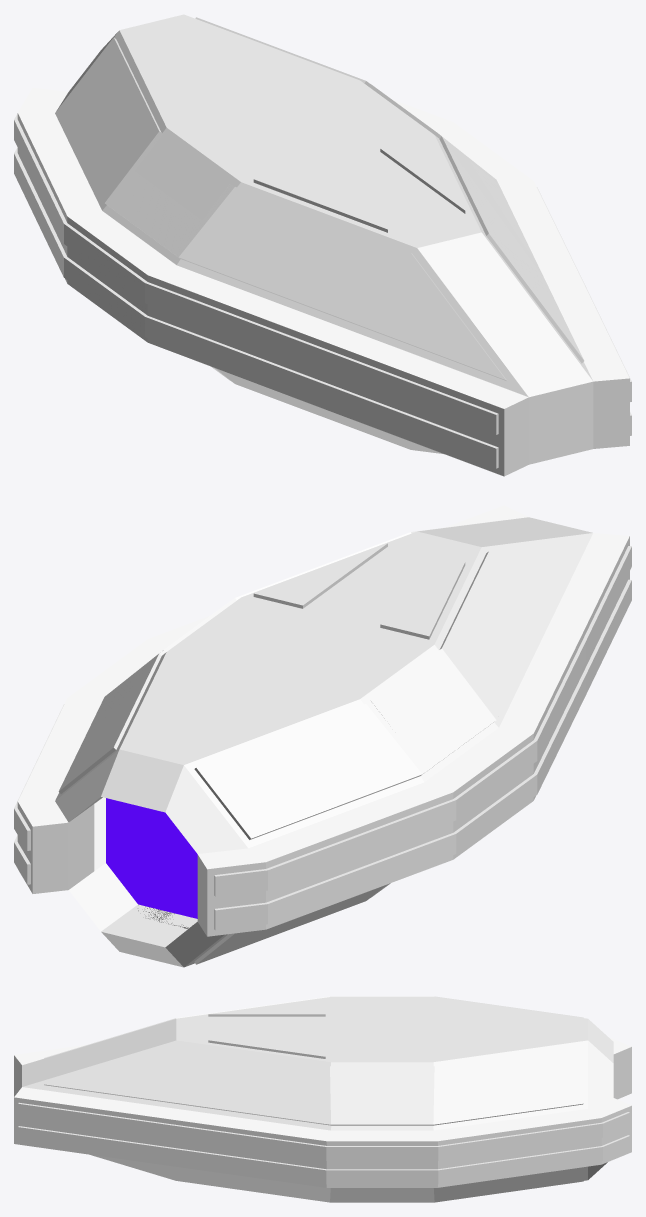
The model's file is 1-Ruby.glb.
The picture shows the model from 3 angles, top to bottom: view 1: azimuth 30°, elevation 25°; view 2: azimuth 150°, elevation 25°; view 3: azimuth 270°, elevation 25°; orthographic projection. The views are drawn at different scales.
Parts seen in each view (by area): view 1: Core.007, Core.006, Core.008; view 2: Core.007, Core.006, Core.008; view 3: Core.007, Core.006, Core.008.
Boxes of the visible parts, x1=… form: Core.007: x1=14, y1=14, x2=631, y2=476; Core.006: x1=58, y1=17, x2=583, y2=453; Core.008: x1=63, y1=38, x2=583, y2=381; Core.007: x1=14, y1=505, x2=631, y2=967; Core.006: x1=58, y1=531, x2=584, y2=964; Core.008: x1=61, y1=520, x2=536, y2=963; Core.007: x1=14, y1=997, x2=631, y2=1202; Core.006: x1=44, y1=996, x2=583, y2=1202; Core.008: x1=44, y1=997, x2=583, y2=1192.
Bounding box in the file's own units: 0.5293 × 0.2696 × 1.04.
